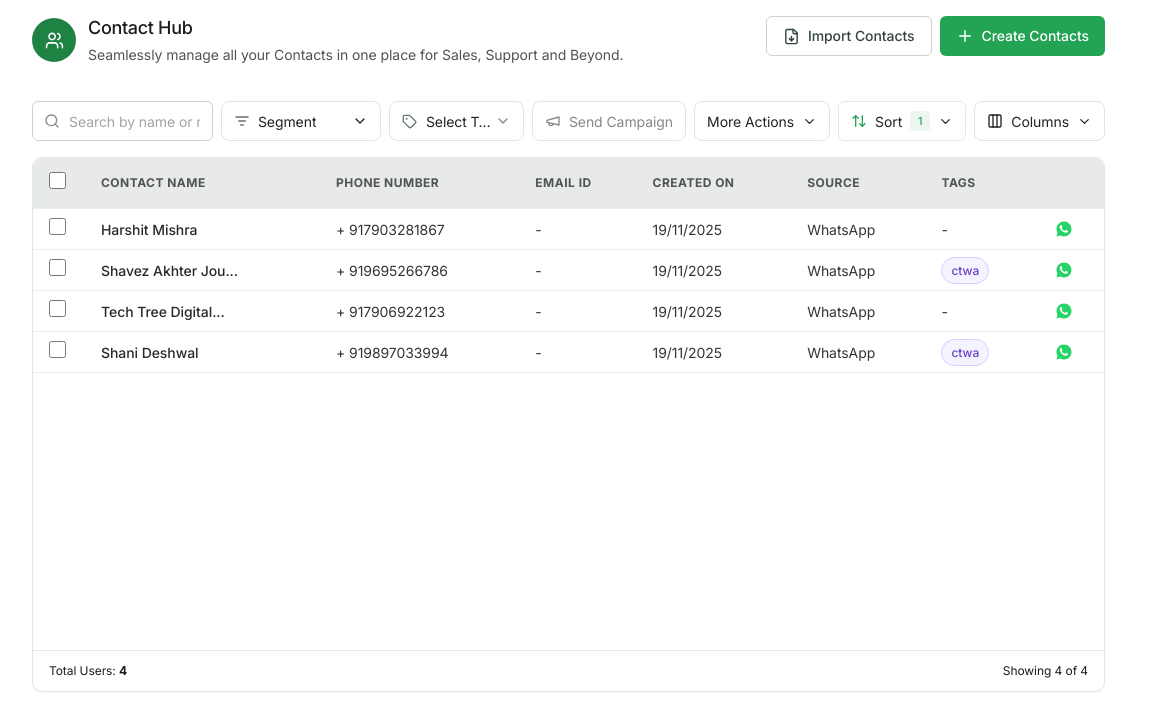
it: ContactHub › soft deletes selected contacts from More Actions
expect the text "Shani Deshwal" is shown: met, box [101,344,199,360]
Click the checkbox named "Select Shani Deshwal". click: (58, 350)
box: [49,341,66,358]
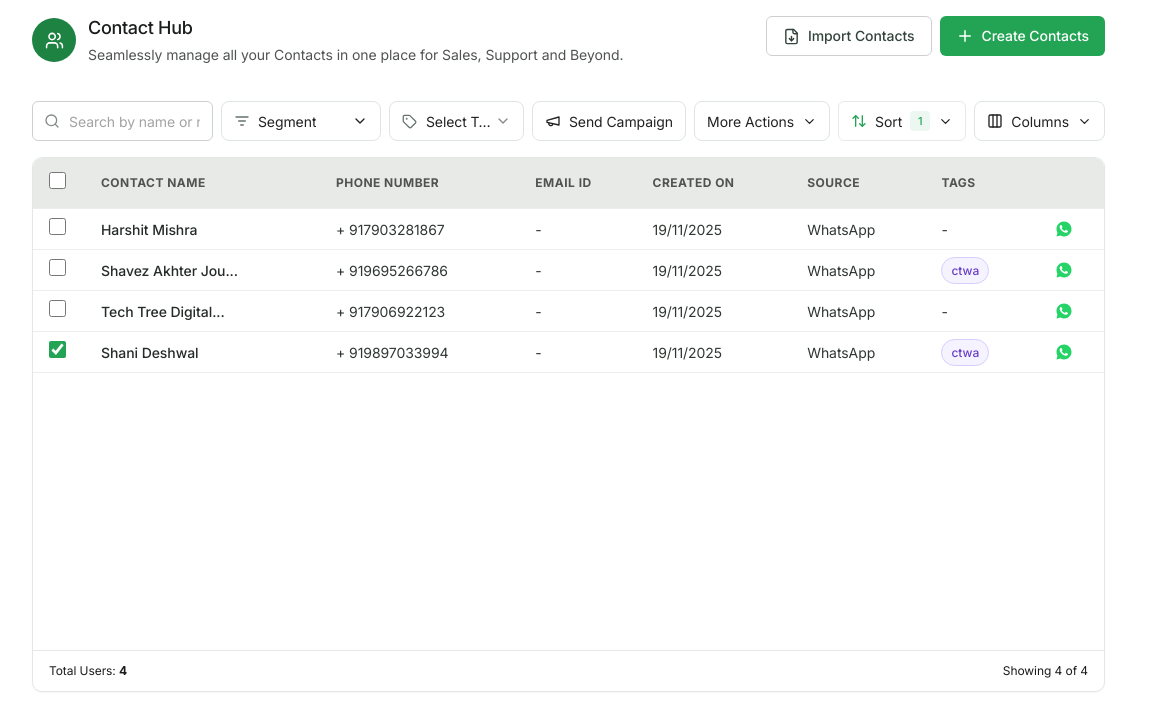
Click the button "More Actions". click: (762, 121)
box: [694,101,830,141]
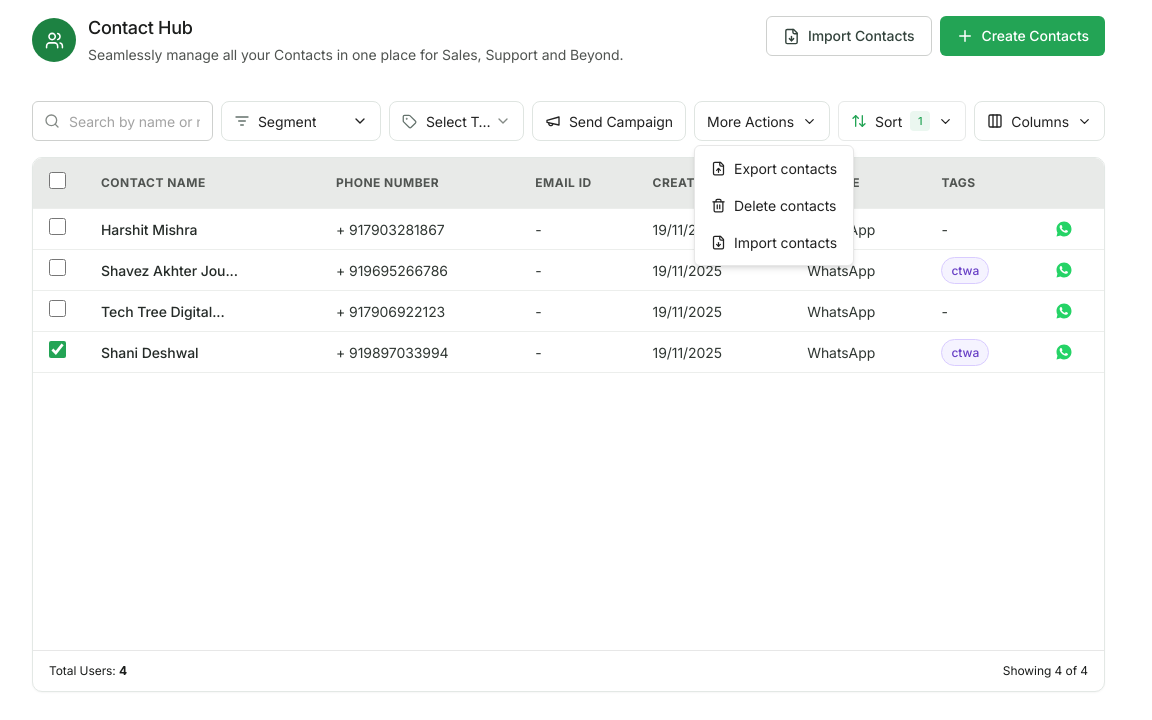
Click the button "Delete contacts". click: (774, 206)
box: [699,187,849,224]
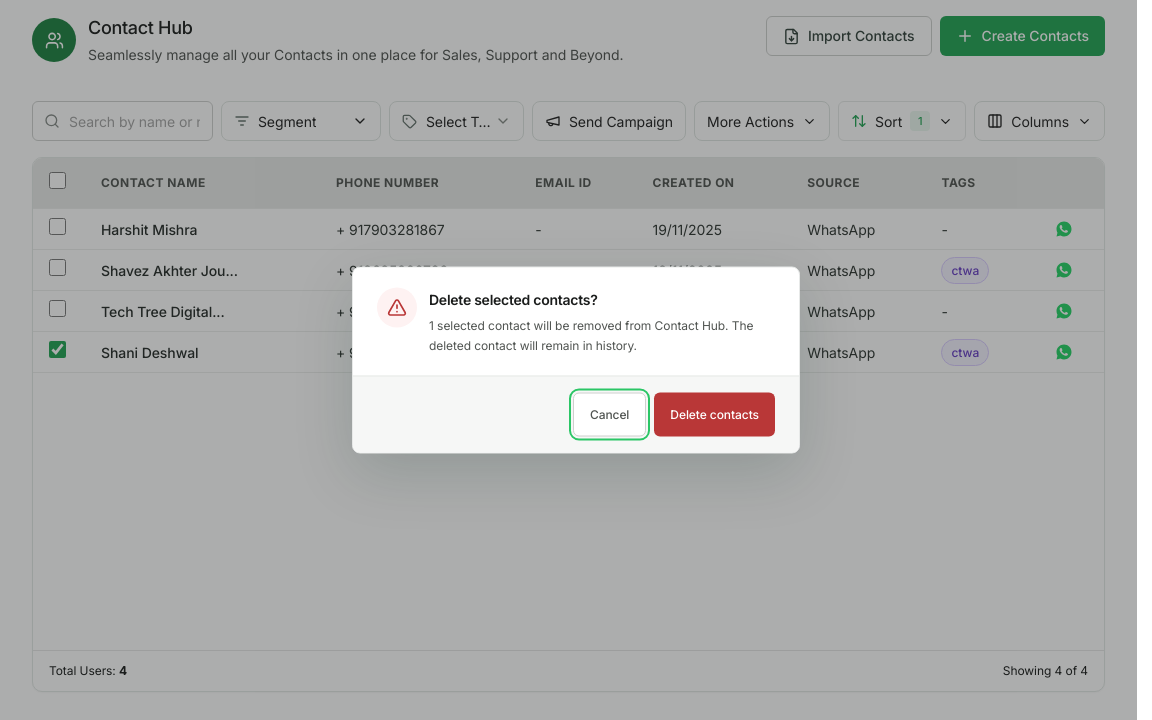
expect the text "remain in history" is shown: met, box [429,318,753,352]
Click the button "Delete contacts". click: (715, 414)
box: [654,392,775,436]
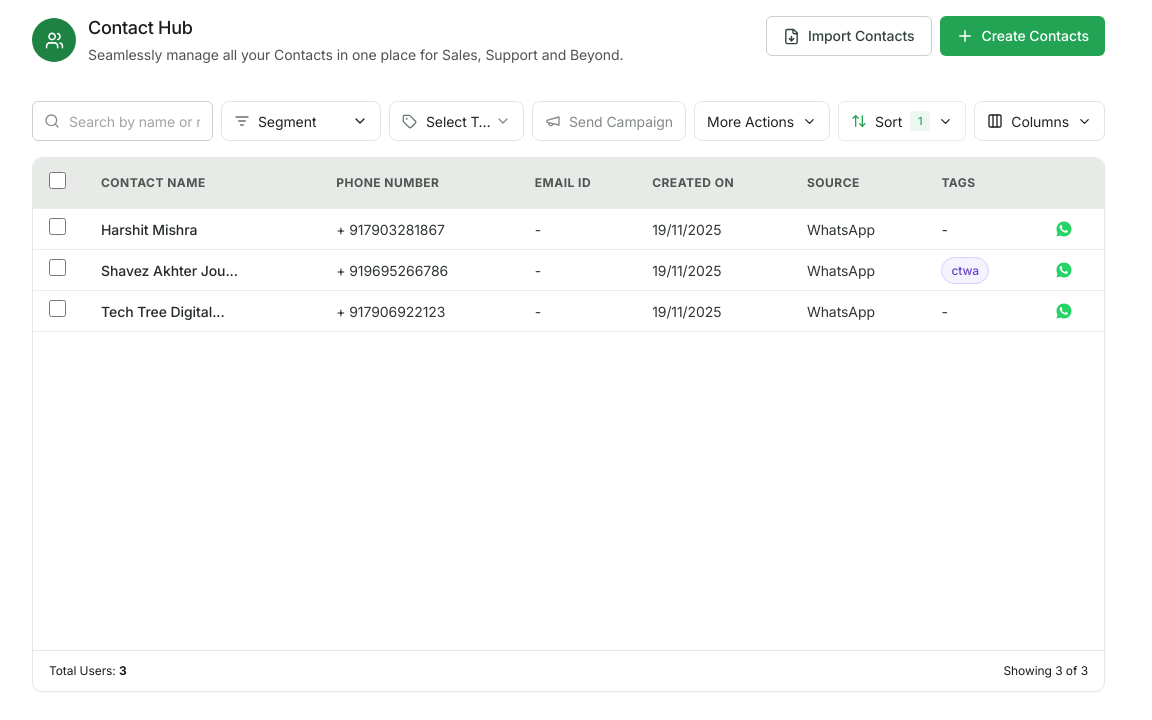
expect the text "Shani Deshwal" is gone: met
